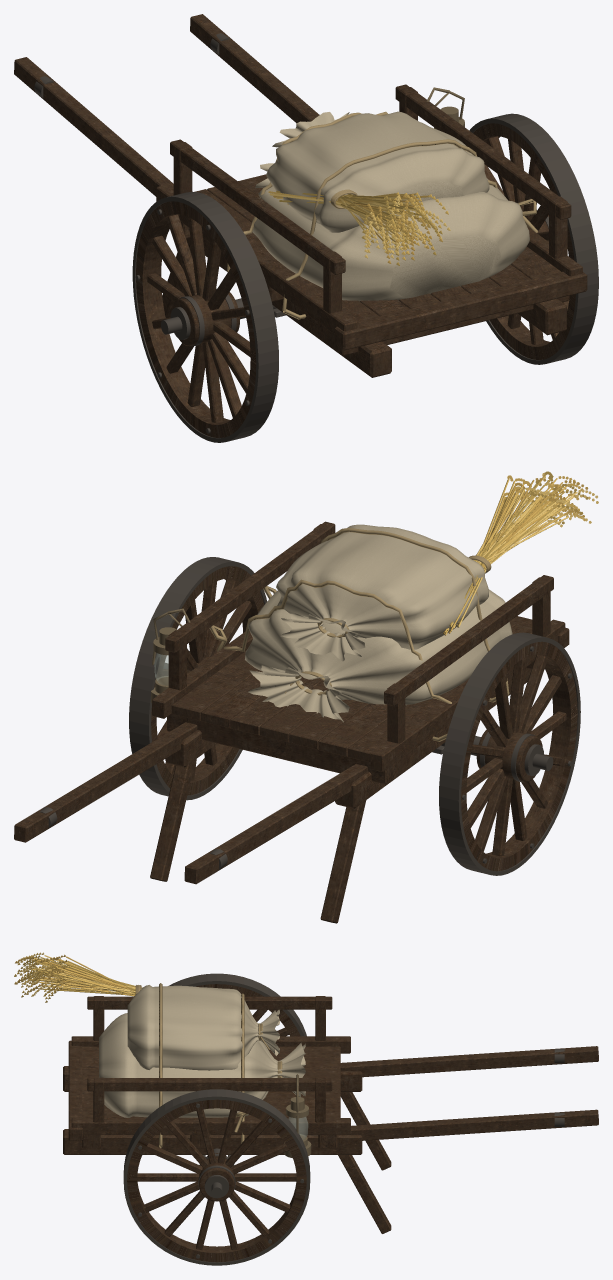
The model's file is rickshaw.glb.
3 views of the same model, one above another, from view 1: azimuth 30°, elevation 25°; view 2: azimuth 150°, elevation 25°; view 3: azimuth 270°, elevation 25° (orthographic). The views are drawn at different scales.
Visible parts, largest first — view 1: Rickshaw_Cart_Wood, Rickshaw_Cart_Linen, Rickshaw_Cart_Iron, Rickshaw_Cart_straw, Rickshaw_Cart_Hemp; view 2: Rickshaw_Cart_Wood, Rickshaw_Cart_Linen, Rickshaw_Cart_Iron, Rickshaw_Cart_straw, Rickshaw_Cart_Hemp, Rickshaw_Cart_Lantern_Metal; view 3: Rickshaw_Cart_Wood, Rickshaw_Cart_Linen, Rickshaw_Cart_Iron, Rickshaw_Cart_straw, Rickshaw_Cart_Hemp, Rickshaw_Cart_Lantern_Metal.
Boxes of the visible parts, x1,y1,x2,y2 form: Rickshaw_Cart_Wood: [14, 14, 587, 437]; Rickshaw_Cart_Linen: [252, 111, 529, 301]; Rickshaw_Cart_Iron: [34, 33, 598, 442]; Rickshaw_Cart_straw: [268, 190, 450, 265]; Rickshaw_Cart_Hemp: [227, 111, 537, 319]; Rickshaw_Cart_Wood: [14, 521, 577, 923]; Rickshaw_Cart_Linen: [245, 524, 512, 722]; Rickshaw_Cart_Iron: [39, 557, 580, 875]; Rickshaw_Cart_straw: [443, 471, 598, 635]; Rickshaw_Cart_Hemp: [209, 528, 509, 741]; Rickshaw_Cart_Lantern_Metal: [151, 608, 190, 702]; Rickshaw_Cart_Wood: [63, 984, 598, 1262]; Rickshaw_Cart_Linen: [99, 985, 305, 1117]; Rickshaw_Cart_Iron: [123, 973, 564, 1265]; Rickshaw_Cart_straw: [14, 952, 142, 1002]; Rickshaw_Cart_Hemp: [135, 983, 282, 1148]; Rickshaw_Cart_Lantern_Metal: [284, 1074, 311, 1157].
Bounding box in the file's own units: 2.39 × 1.67 × 4.06.
7 materials, 2 textured.
